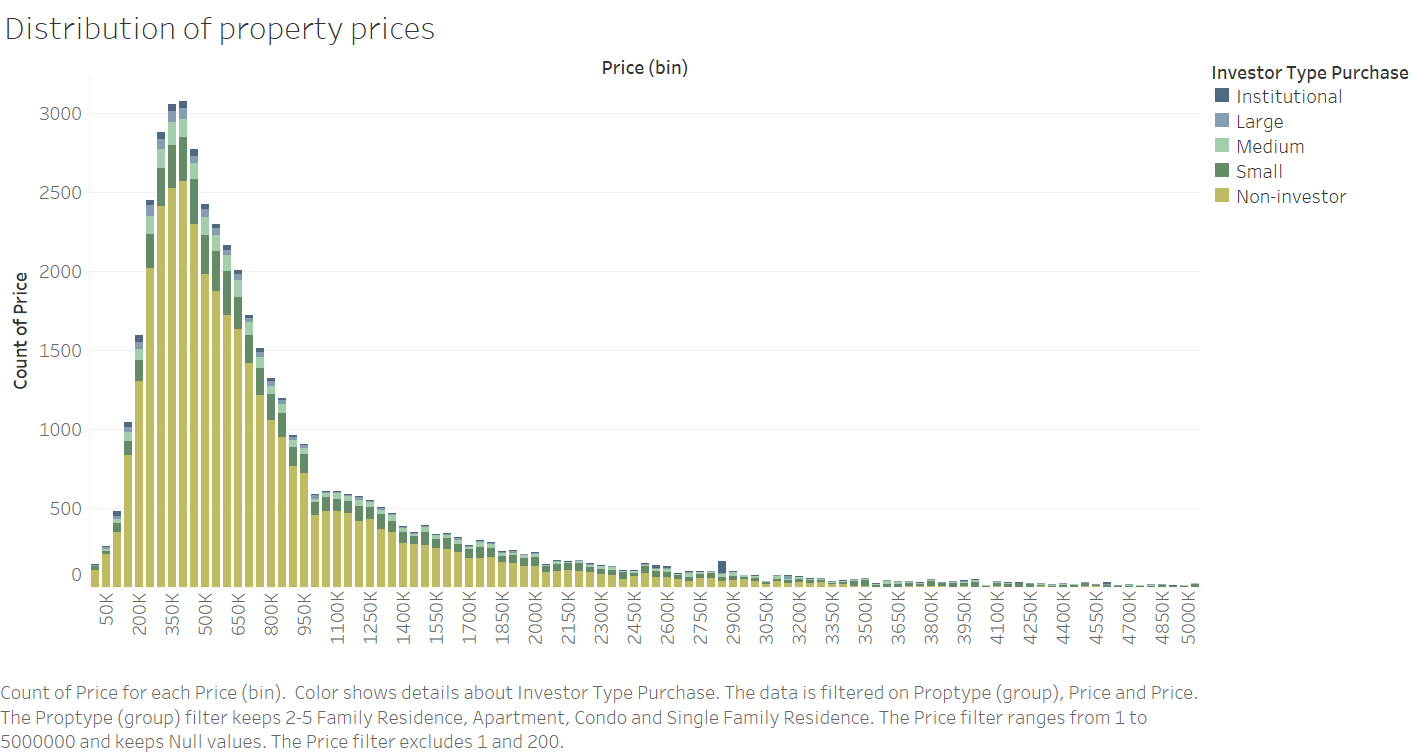

Layout of this report page (visuals, bound fields, positions):
{"tool":"tableau","page":{"name":"Dashboard 1","canvas":[1000,800],"ordinal":0},"visuals":[{"type":"worksheet","title":"Sheet 2","mark":"Bar","rows":["Year"],"box":[8,8,759.7,784]},{"type":"legend","title":"Sheet 2","param":"[federated.0ll3gzu0fbkppw1ernb2y09t1gbt].[Grouped ages]","box":[767.7,8,224.3,784]}]}

Visuals, with their boxes on the page's 1000x800 design canvas (x1, y1, x2, y2). These are canvas units, not pixel positions in the 1413x754 screenshot, which may show the page scaled, cropped or inside an application window:
"Sheet 2" worksheet (Bar marks): box(8, 8, 768, 792)
"Sheet 2" legend: box(768, 8, 992, 792)
